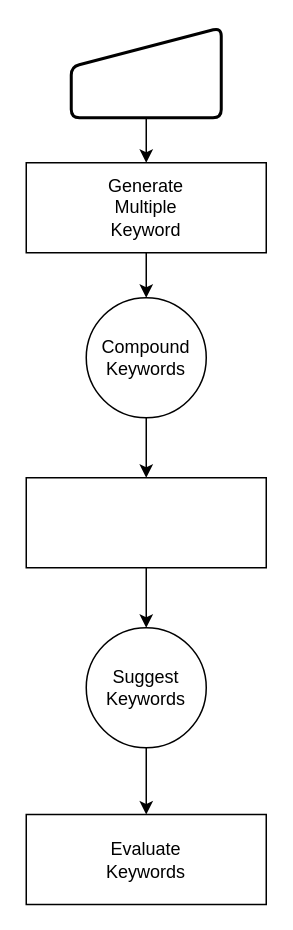
The diagram is 293 pixels wide and 930 high, and some of its shapes have lost their labels. The centre of each missing label's shape, as x and y in pixels:
"Pick Up Suggest Keywords" goes at point (145, 522).
"{problem} {solution}" goes at point (145, 72).
